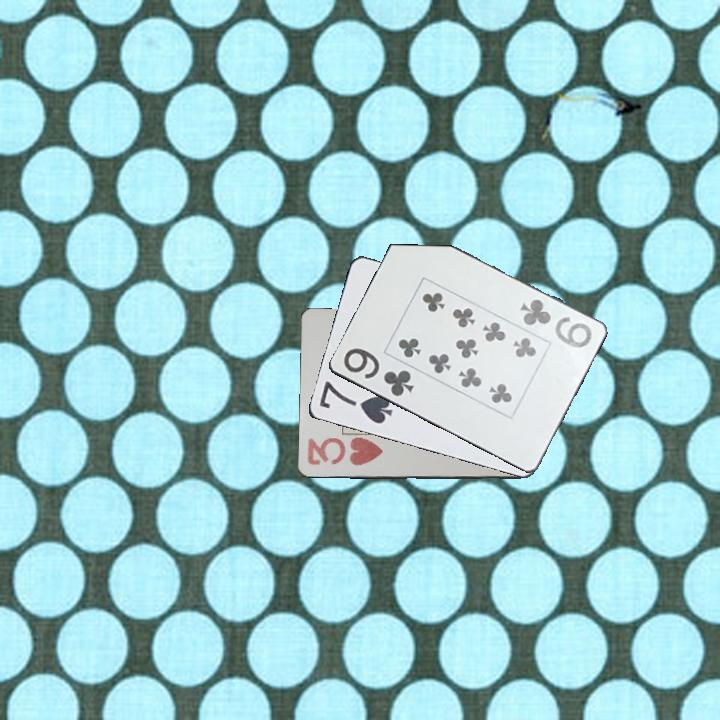3h: (304, 435, 386, 468)
7s: (315, 377, 396, 427)
9c: (339, 344, 417, 400), (516, 296, 595, 351)
